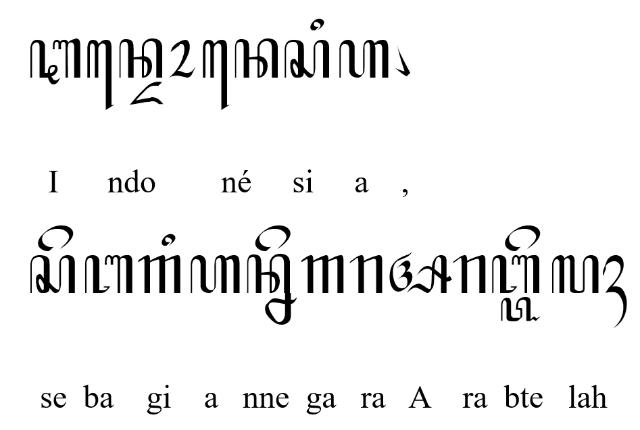A: (388, 252, 452, 295)
I: (29, 37, 81, 84)
_d: (129, 80, 165, 106)
_h1: (602, 255, 628, 331)
_t: (500, 297, 540, 323)
b: (490, 254, 540, 294), (84, 256, 134, 294)
e: (255, 224, 292, 252), (37, 224, 73, 252), (505, 224, 541, 252)
e1: (86, 38, 114, 111), (202, 39, 228, 111)
g: (137, 256, 181, 294), (301, 256, 345, 294)
h: (338, 39, 390, 79), (188, 254, 240, 294)
i: (310, 18, 324, 32), (161, 234, 175, 246)
kom: (394, 45, 410, 77)
l: (551, 254, 599, 294)
n: (119, 38, 163, 78), (234, 39, 278, 79)
nn: (246, 254, 296, 325)
o: (168, 40, 196, 78)
r: (350, 254, 384, 296), (454, 254, 486, 293)
s: (28, 254, 76, 293), (284, 40, 330, 78)
